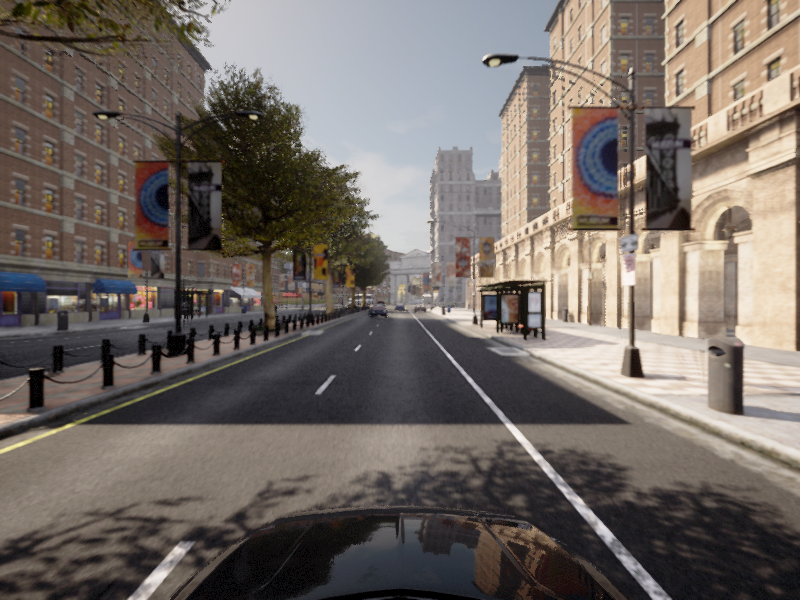vehicle: (367, 305, 388, 318), (266, 302, 279, 322)
